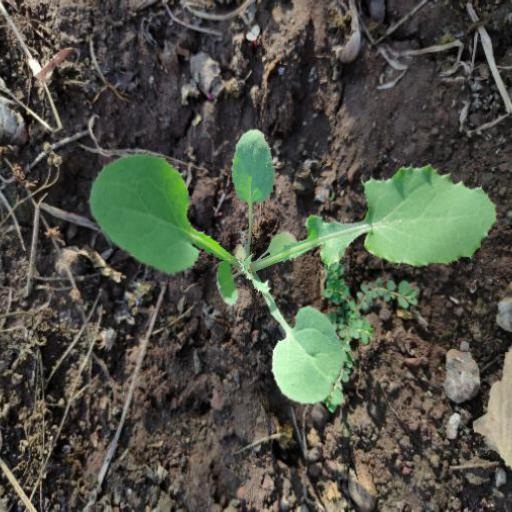weed: (74, 125, 499, 404)
